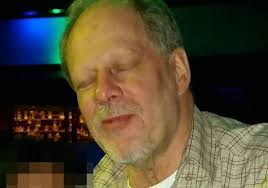middle_eastern_male: (63, 5, 200, 159)
